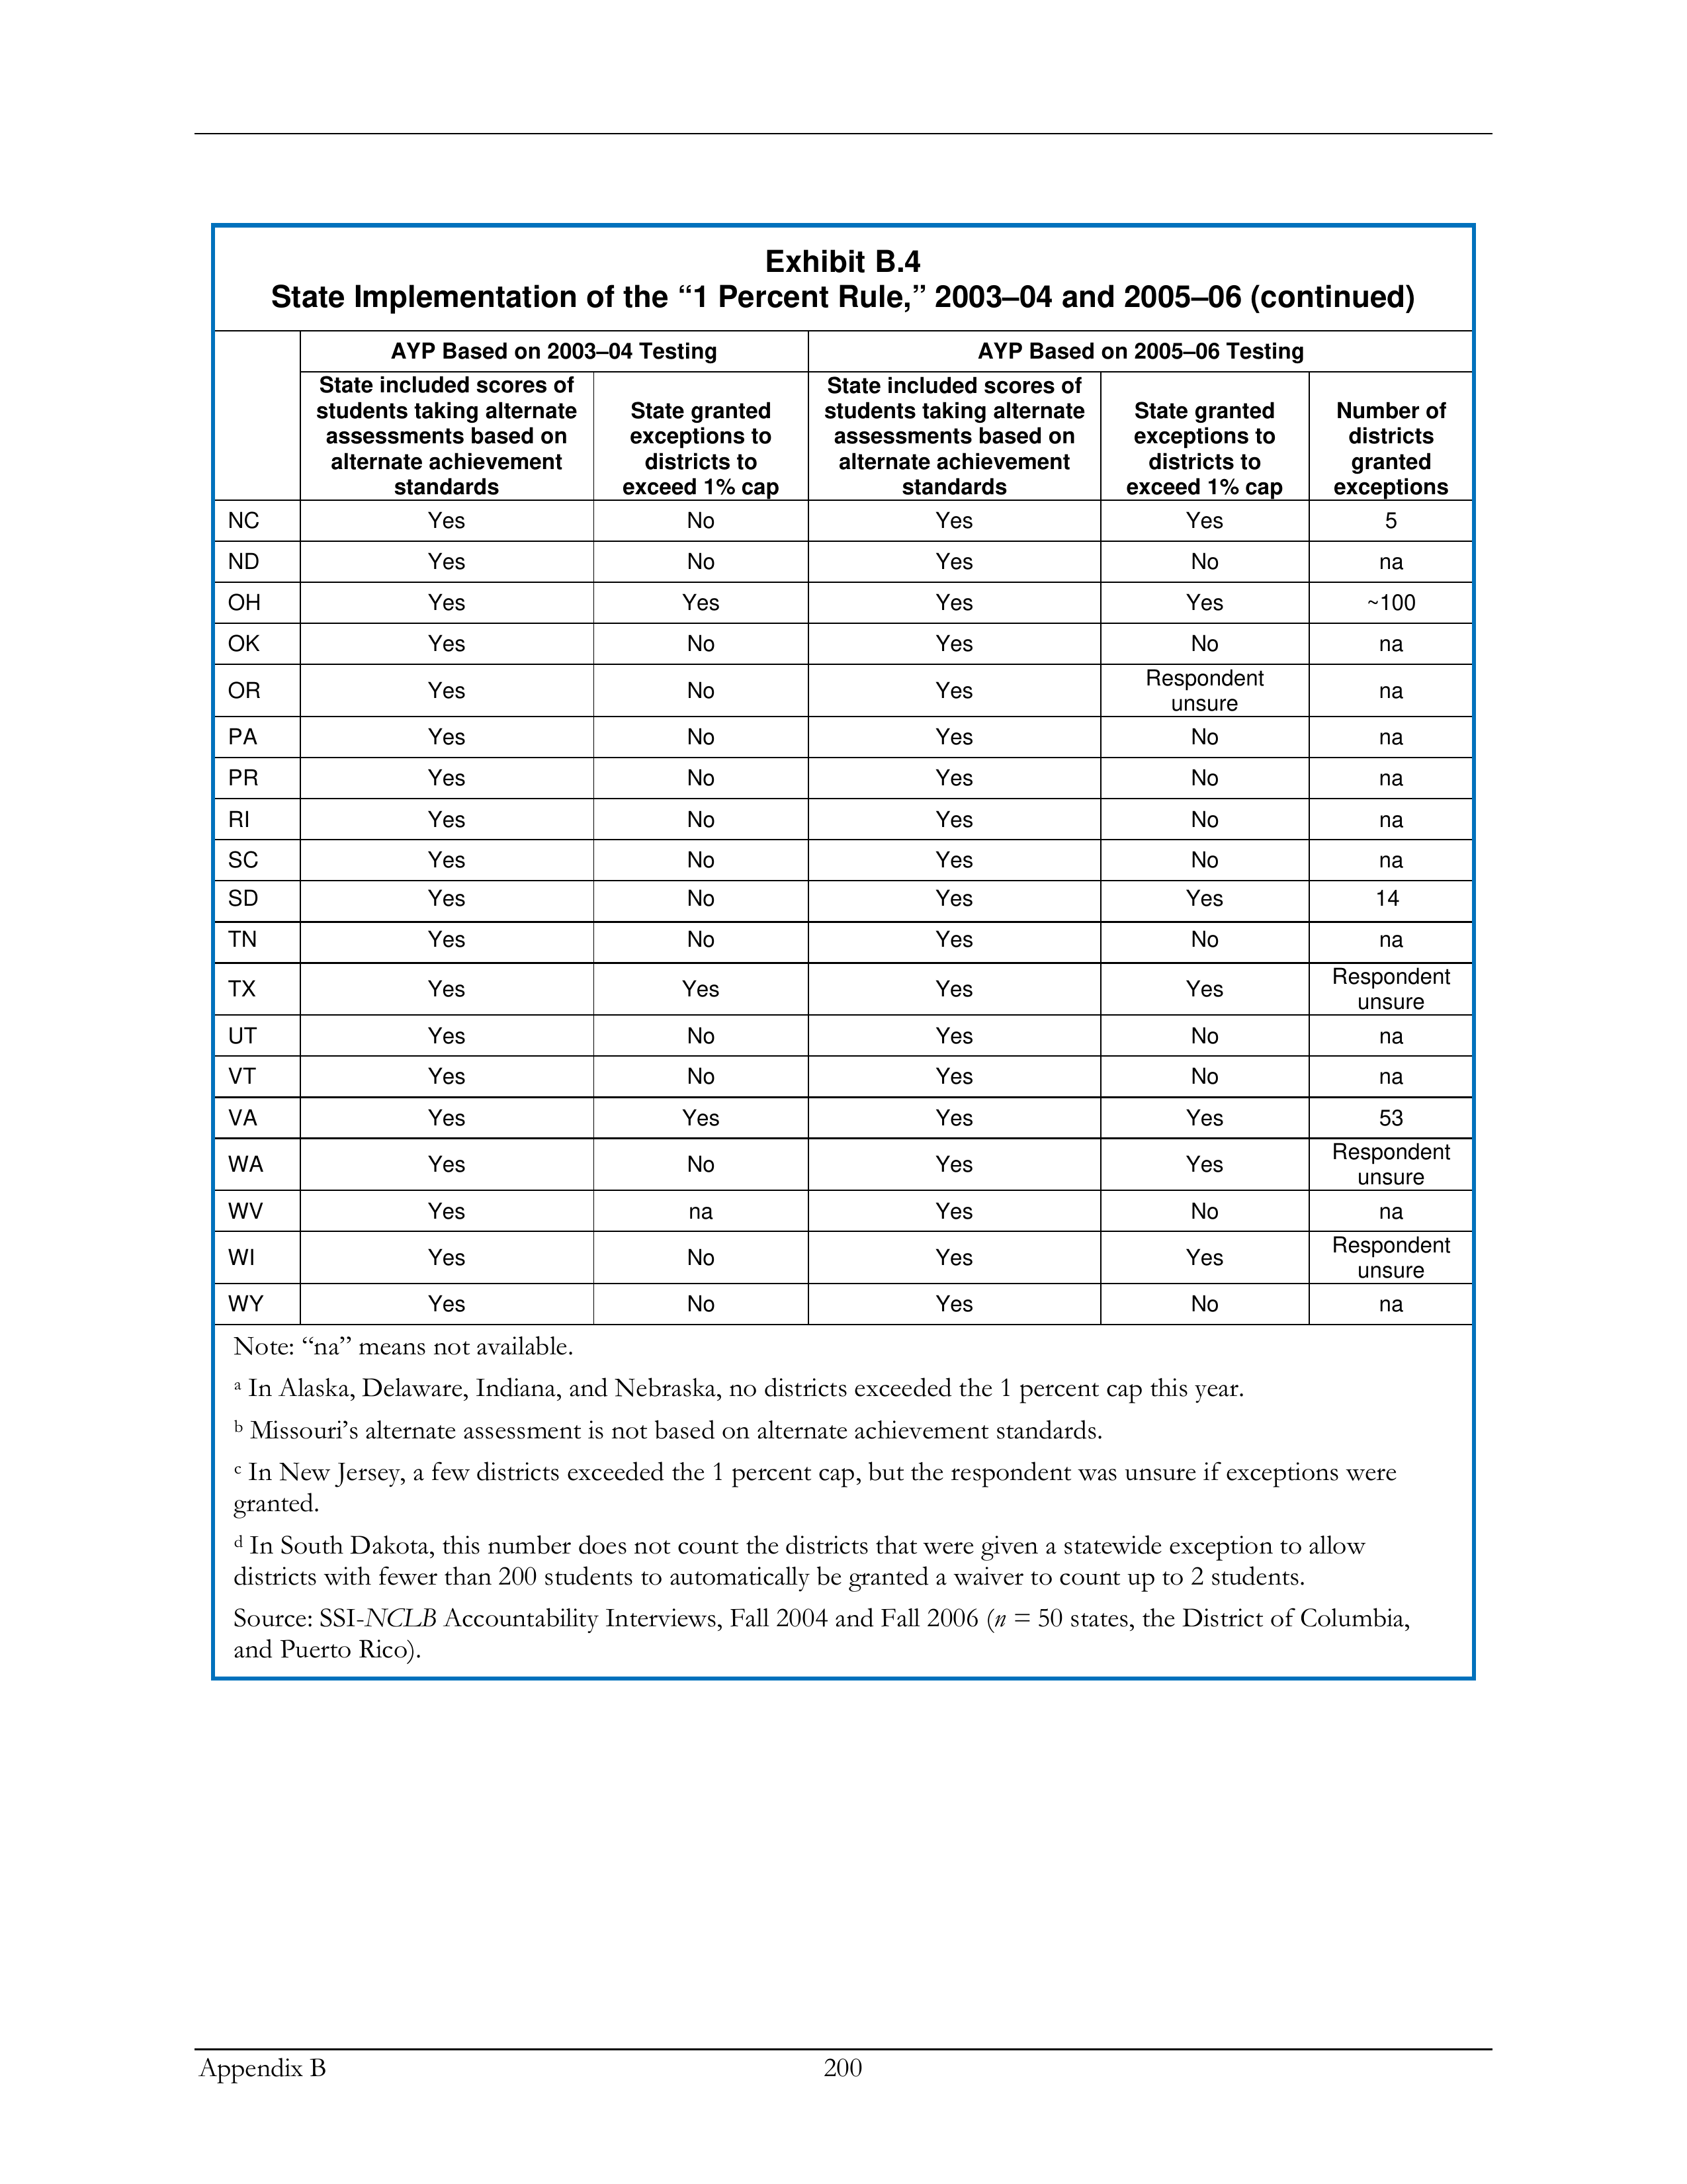table: (206, 324, 1476, 1327)
